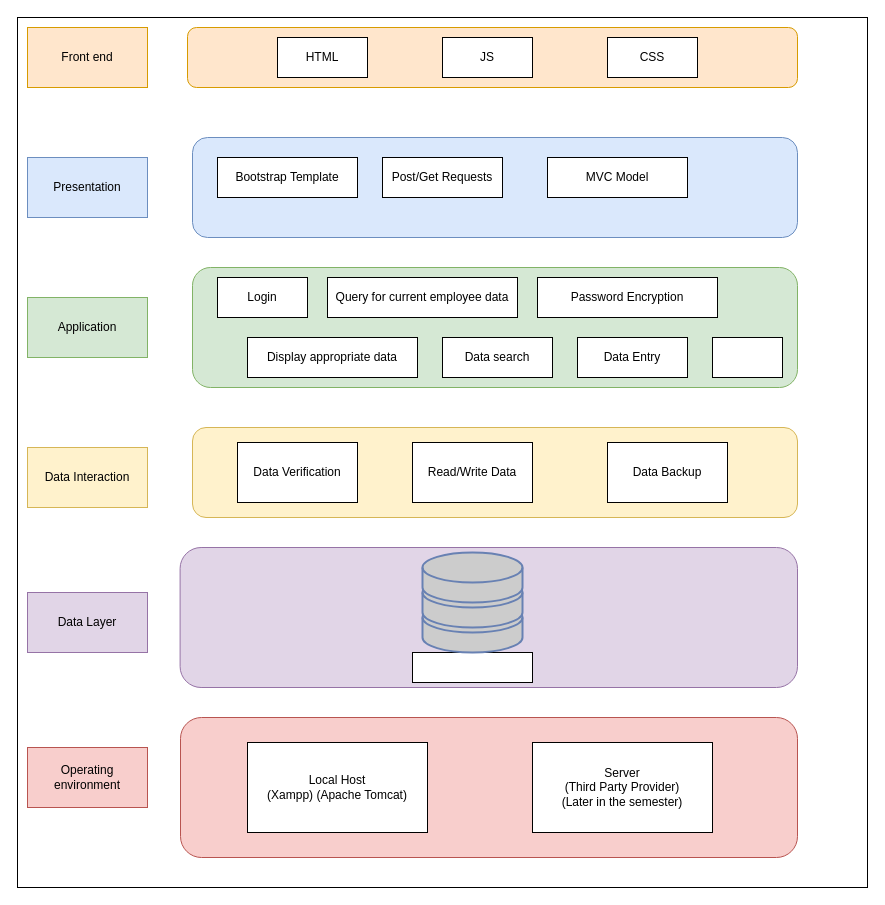
Image size: 885x905. Some labels were removed from this diagram. Here are the shapes that lost their labels. From the top down, the centre of each, then its label:
At (747,357): "Etc...".
At (472,667): "MyPhpAdmin (SQL)".
